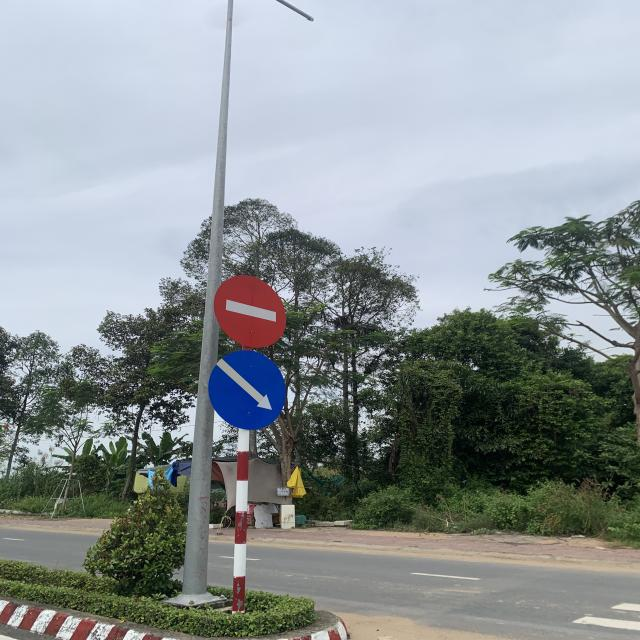Cam_Di_Nguoc_Chieu: (214, 274, 286, 349)
Chi_Huong_Di_Phai: (208, 350, 285, 430)
